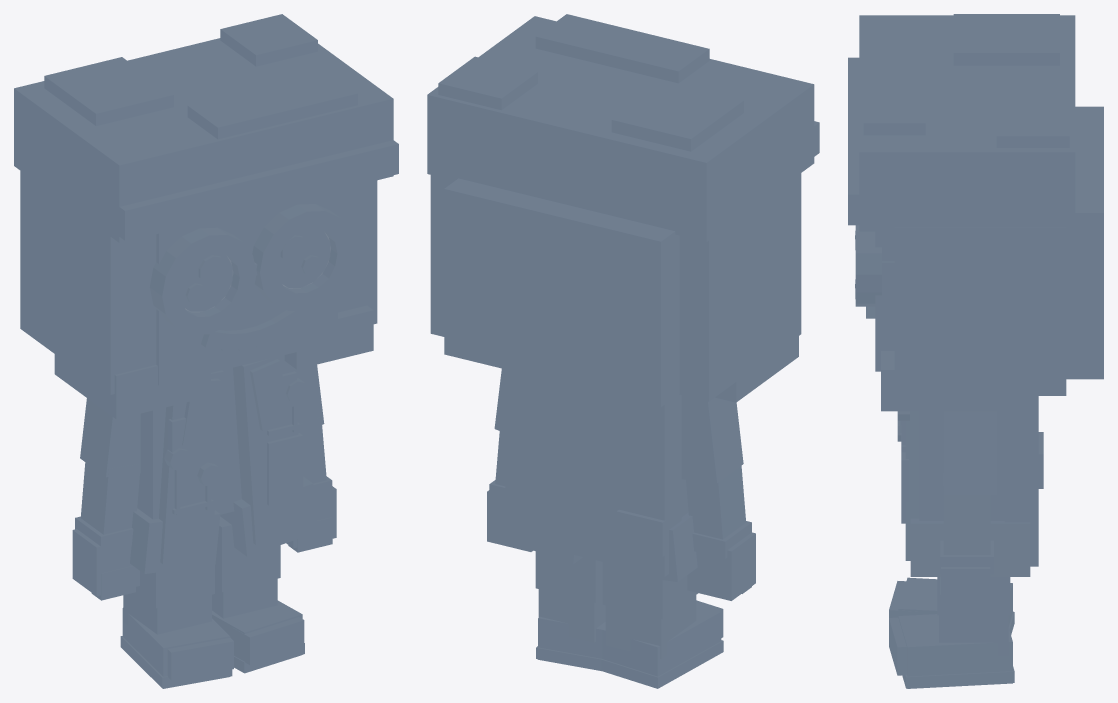
The model's file is robot.fbx.
The picture shows the model from 3 angles, left to right: view 1: azimuth 30°, elevation 25°; view 2: azimuth 150°, elevation 25°; view 3: azimuth 270°, elevation 25°; orthographic projection. The views are drawn at different scales.
Parts seen in each view (by area): view 1: hat_slab, head_wing_L, hat_lip, head_face, rim_R, hat_bar_orange, rim_L, coat_front_L, coat_front_R, hat_bar_yellow, head_wing_Lb, head_wing_R (+30 smaller); view 2: hat_slab, head_back, coat_back, head_wing_L, hat_bar_orange, hat_bar_yellow, arm_upper_R, shoe_R, hat_bar_mag, arm_fore_R, leg_upper_R, hand_R (+13 smaller); view 3: hat_slab, head_wing_R, head_back, hat_bar_yellow, hat_bar_orange, coat_back, arm_upper_L, shoe_L, coat_flap_L, coat_side_L, hat_bar_mag, arm_fore_L (+14 smaller).
Part boxes in pixels (<box>): hat_slab: <box>14,38,393,242</box>; head_wing_L: <box>20,171,156,394</box>; hat_lip: <box>108,140,398,240</box>; head_face: <box>156,190,337,385</box>; rim_R: <box>149,227,256,334</box>; hat_bar_orange: <box>187,71,357,139</box>; rim_L: <box>252,204,354,310</box>; coat_front_L: <box>233,355,304,544</box>; coat_front_R: <box>159,370,223,563</box>; hat_bar_yellow: <box>44,57,173,125</box>; head_wing_Lb: <box>54,354,210,419</box>; head_wing_R: <box>338,180,377,324</box>; hat_slab: <box>427,16,814,241</box>; head_back: <box>444,178,679,407</box>; coat_back: <box>505,369,681,576</box>; head_wing_L: <box>679,173,801,401</box>; hat_bar_orange: <box>535,14,709,83</box>; hat_bar_yellow: <box>611,81,743,151</box>; arm_upper_R: <box>681,395,743,483</box>; shoe_R: <box>599,604,721,688</box>; hat_bar_mag: <box>438,56,537,110</box>; arm_fore_R: <box>686,465,746,539</box>; leg_upper_R: <box>602,562,698,619</box>; hand_R: <box>687,532,755,600</box>; hat_slab: <box>859,15,1075,231</box>; head_wing_R: <box>894,227,1066,395</box>; head_back: <box>1066,106,1103,379</box>; hat_bar_yellow: <box>953,14,1059,65</box>; hat_bar_orange: <box>863,53,925,135</box>; coat_back: <box>1004,396,1038,566</box>; arm_upper_L: <box>944,411,996,495</box>; shoe_L: <box>898,614,1012,688</box>; coat_flap_L: <box>910,518,1030,576</box>; coat_side_L: <box>919,396,1004,520</box>; hat_bar_mag: <box>996,105,1069,147</box>; arm_fore_L: <box>943,473,990,554</box>.
Bounding box in the file's own units: 98.54 × 195 × 77.56.
